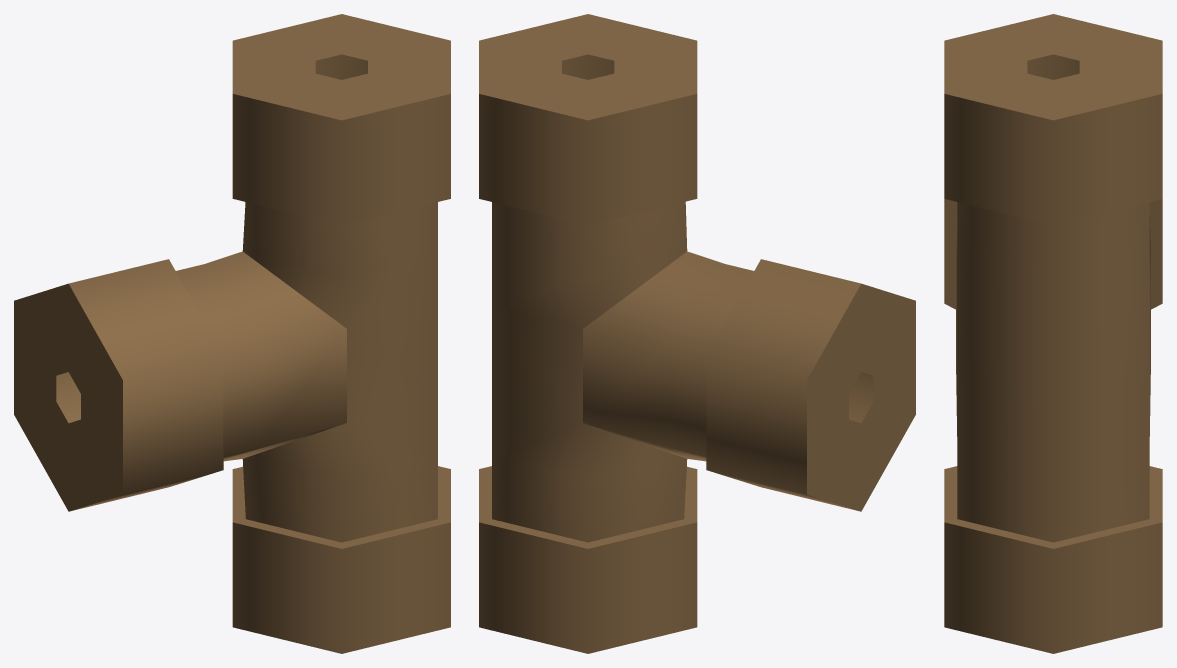
File: WallDecoF.fbx
3 views of the same model, side by side, from view 1: azimuth 30°, elevation 25°; view 2: azimuth 150°, elevation 25°; view 3: azimuth 270°, elevation 25° (orthographic).
Visible parts, largest first — view 1: WallDecoF; view 2: WallDecoF; view 3: WallDecoF.
Boxes of the visible parts, bbox=[...] form: WallDecoF: bbox=[14, 14, 450, 653]; WallDecoF: bbox=[479, 14, 915, 653]; WallDecoF: bbox=[944, 14, 1162, 653].
Size of the model in its own units: 0.7474 by 0.9966 by 0.3692.
